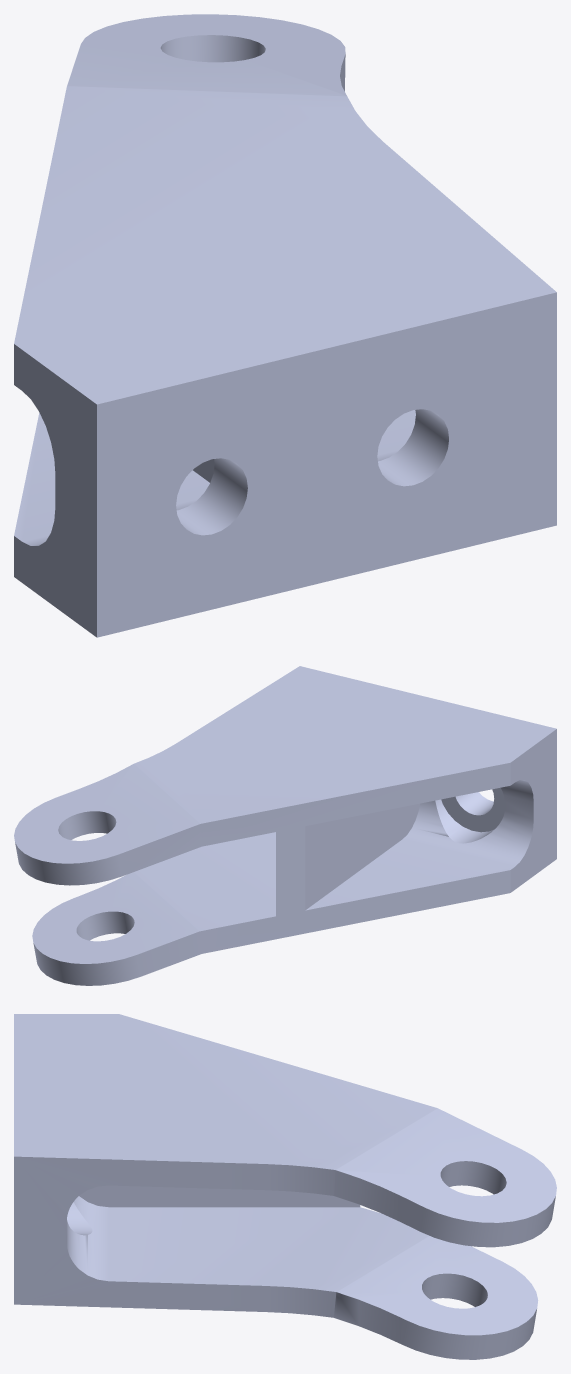
The model's file is Rear_Right_Corner_Wheel_Assembly__UA_26_Rear_Right_Tie_Rod_Tab_RevAB_1.dae.
3 views of the same model, one above another, from view 1: azimuth 30°, elevation 25°; view 2: azimuth 150°, elevation 25°; view 3: azimuth 270°, elevation 25° (orthographic). The views are drawn at different scales.
Parts seen in each view (by area): view 1: node0; view 2: node0; view 3: node0.
Boxes of the visible parts, x1,y1,x2,y2 form: node0: (14, 14, 556, 637); node0: (14, 666, 556, 985); node0: (14, 1014, 556, 1359).
Bounding box in the file's own units: 0.0412 × 0.0182 × 0.0515.
